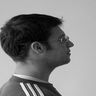ear: (27, 36, 49, 60)
